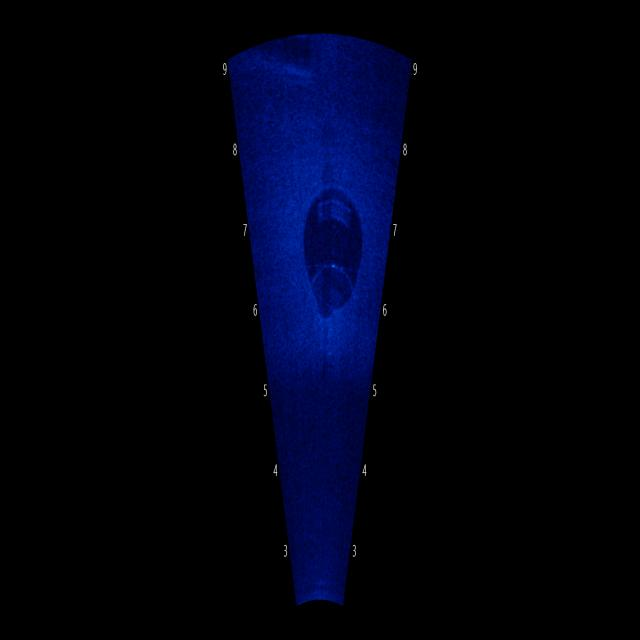circle: (302, 154, 369, 337)
